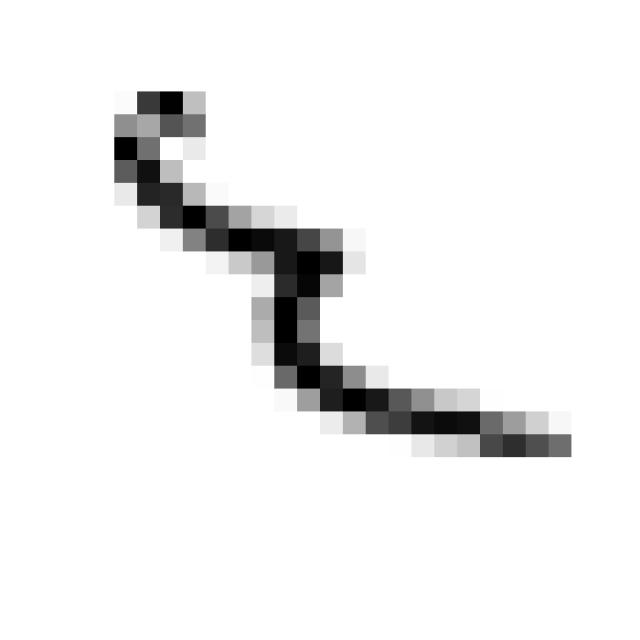4 -four-: (96, 73, 588, 469)
